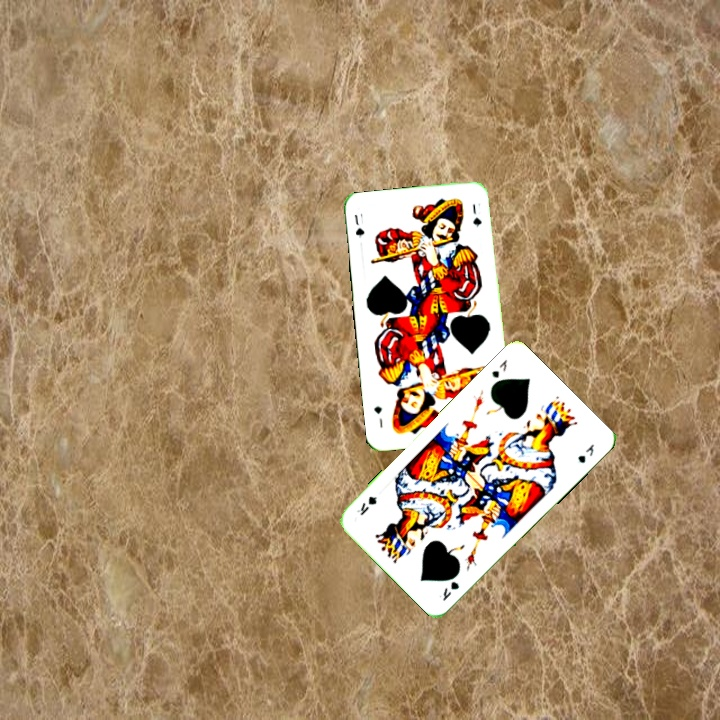GK: (438, 577, 462, 603), (488, 355, 510, 381)
GU: (350, 211, 367, 240)
